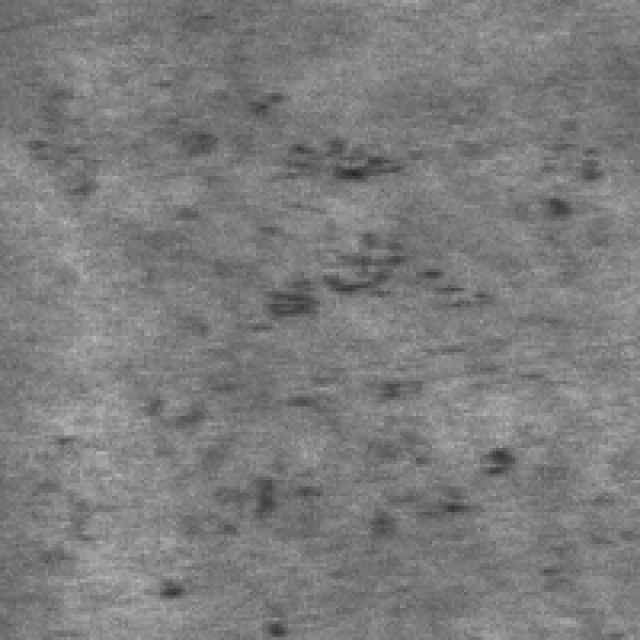rolled-in_scale: (134, 378, 522, 531), (176, 128, 448, 323)
